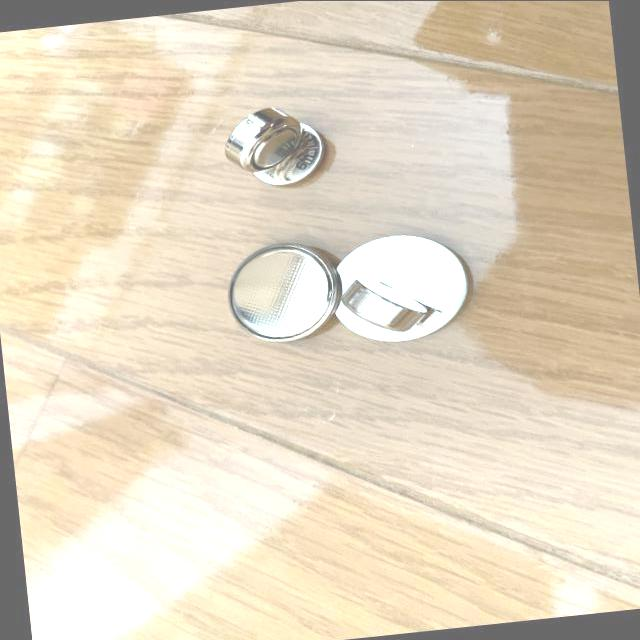COIN: (325, 228, 478, 350), (221, 236, 344, 349), (217, 100, 308, 176), (338, 272, 432, 339), (246, 118, 326, 190)
